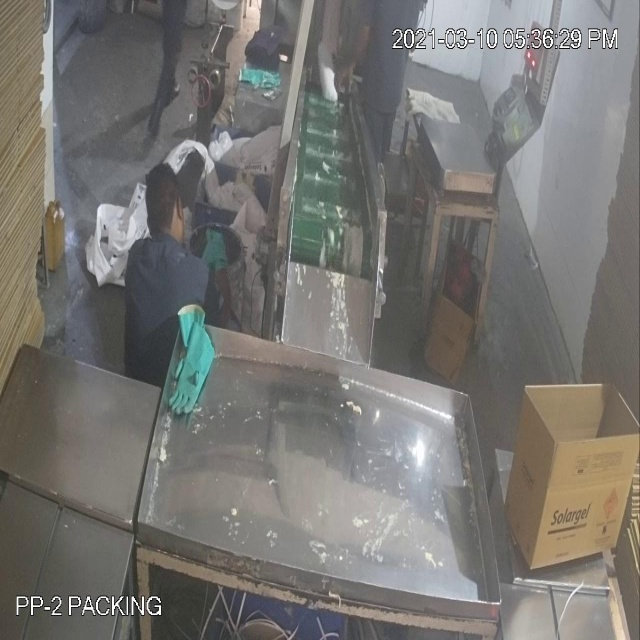Sin_guantes: (328, 18, 376, 98)
